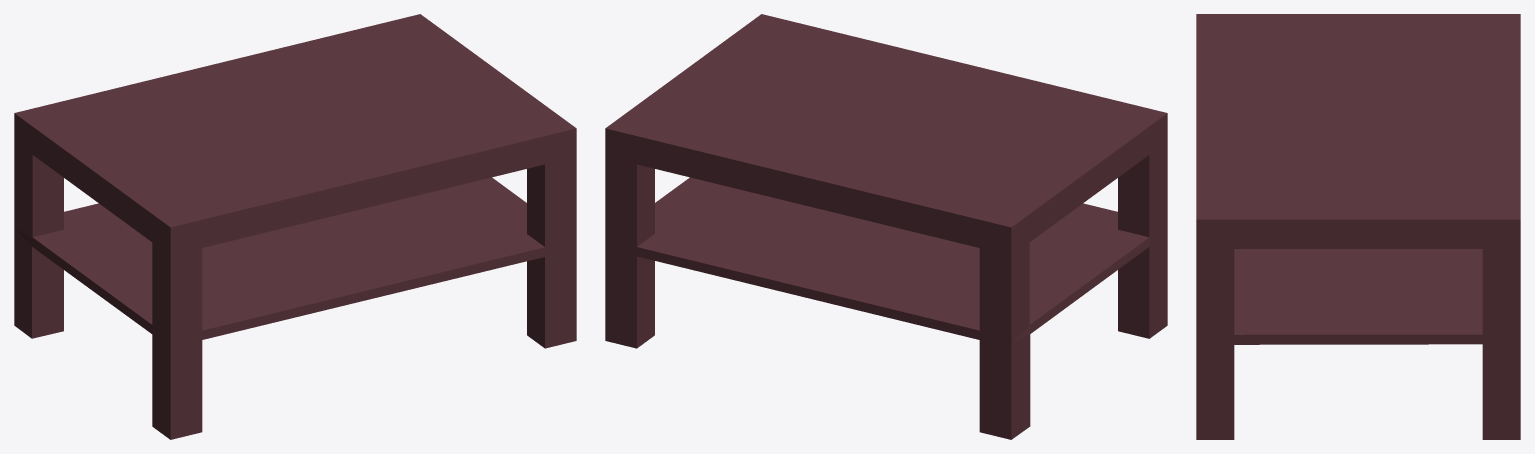
The model's file is table-coffee.fbx.
3 renders of one model, left to right at view 1: azimuth 30°, elevation 25°; view 2: azimuth 150°, elevation 25°; view 3: azimuth 270°, elevation 25°, orthographic. The views are drawn at different scales.
Parts seen in each view (by area): view 1: table-coffee; view 2: table-coffee; view 3: table-coffee.
Boxes of the visible parts, <box> form: table-coffee: <box>14,14,576,439</box>; table-coffee: <box>605,14,1167,439</box>; table-coffee: <box>1196,14,1520,439</box>.
Size of the model in its own units: 0.9013 by 0.45 by 0.6.
